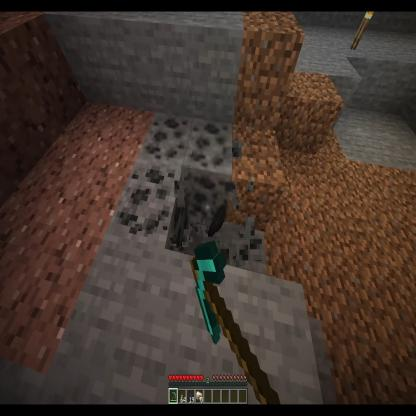coal ore: (111, 166, 185, 251), (185, 116, 232, 222), (138, 111, 192, 168)
